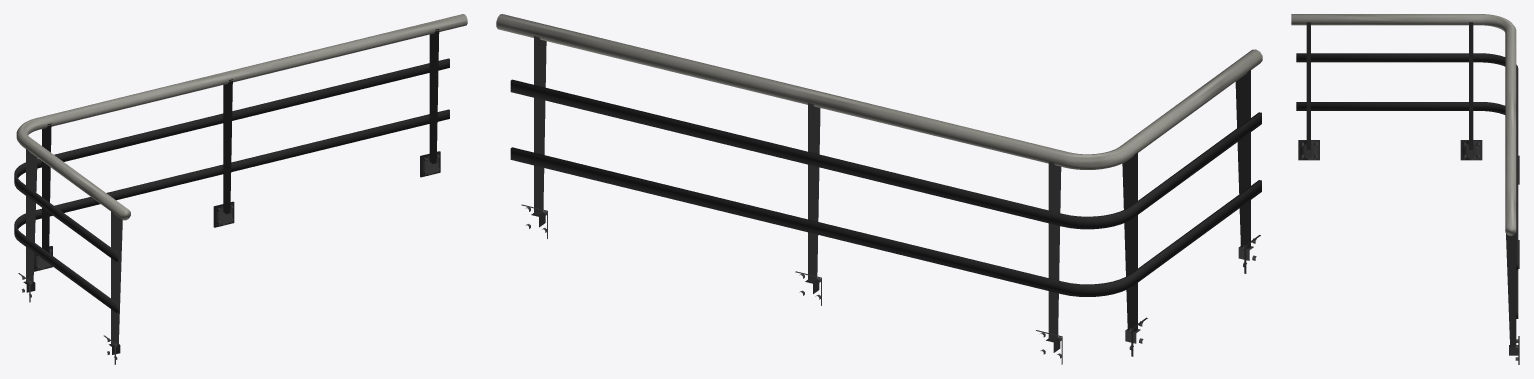
3 views of the same model, side by side, from view 1: azimuth 30°, elevation 25°; view 2: azimuth 150°, elevation 25°; view 3: azimuth 270°, elevation 25° (orthographic). The views are drawn at different scales.
Visible parts, largest first — view 1: body0_model0_lod0_mesh0; view 2: body0_model0_lod0_mesh0; view 3: body0_model0_lod0_mesh0.
Boxes of the visible parts, x1=… form: body0_model0_lod0_mesh0: x1=14, y1=14, x2=467, y2=364; body0_model0_lod0_mesh0: x1=496, y1=14, x2=1262, y2=364; body0_model0_lod0_mesh0: x1=1291, y1=14, x2=1519, y2=364.
Size of the model in its own units: 134 by 43.48 by 60.51.
1 material, 1 textured.
